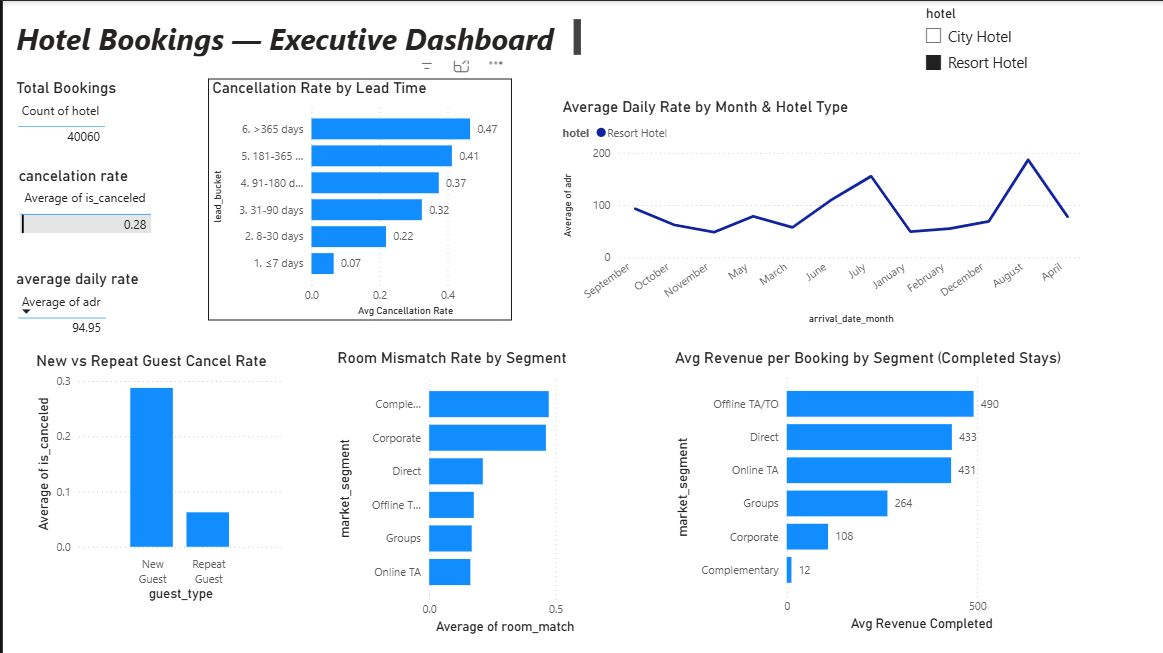

The page's visual inventory and layout, read from the dashboard file:
{"tool":"powerbi","page":{"name":"Page 1","canvas":[1280,720],"ordinal":0},"visuals":[{"type":"clusteredBarChart","title":"Cancellation Rate by Lead Time","fields":{"Category":["hotel_bookings.lead_bucket"],"Y":["Avg(hotel_bookings.is_canceled)"]},"box":[225,85.1,333.4,266.2],"z":0},{"type":"clusteredBarChart","title":"Avg Revenue per Booking by Segment (Completed Stays)","fields":{"Y":["hotel_bookings.Avg Revenue Completed"],"Category":["hotel_bookings.market_segment"]},"box":[732.8,381.5,439.1,315.6],"z":1000},{"type":"clusteredColumnChart","title":"New vs Repeat Guest Cancel Rate ","fields":{"Category":["hotel_bookings.guest_type"],"Y":["Avg(hotel_bookings.is_canceled)"]},"box":[31.6,384.2,279.9,279.9],"z":2000},{"type":"lineChart","title":"Average Daily Rate by Month & Hotel Type","fields":{"Category":["hotel_bookings.arrival_date_month"],"Y":["Avg(hotel_bookings.adr)"],"Series":["hotel_bookings.hotel"]},"box":[609.3,105.7,581.8,253.9],"z":3000},{"type":"clusteredBarChart","title":"Room Mismatch Rate by Segment","fields":{"Y":["Avg(hotel_bookings.room_match)"],"Category":["hotel_bookings.market_segment"]},"box":[362.3,381.5,285.4,318.4],"z":4000},{"type":"tableEx","title":"cancelation rate","fields":{"Values":["Avg(hotel_bookings.is_canceled)"]},"box":[12.3,181.1,190.7,89.2],"z":5000},{"type":"tableEx","title":"average daily rate","fields":{"Values":["Avg(hotel_bookings.adr)"]},"box":[9.6,295,161.9,89.2],"z":6000},{"type":"tableEx","title":"Total Bookings","fields":{"Values":["hotel_bookings.hotel"]},"box":[9.6,85.1,142.7,89.2],"z":6001},{"type":"textbox","box":[9.6,15.1,629.8,50.8],"z":6002},{"type":"slicer","fields":{"Values":["hotel_bookings.hotel"]},"box":[1000.3,0,279.9,94.7],"z":6003}]}

Visuals, with their boxes in screenshot pixels (x1, y1, x2, y2), scaled from the page's 1280x720 canvas onto the 1163x653 screenshot:
"Cancellation Rate by Lead Time" clusteredBarChart: (204, 77, 507, 319)
"Avg Revenue per Booking by Segment (Completed Stays)" clusteredBarChart: (666, 346, 1065, 632)
"New vs Repeat Guest Cancel Rate " clusteredColumnChart: (29, 348, 283, 602)
"Average Daily Rate by Month & Hotel Type" lineChart: (554, 96, 1082, 326)
"Room Mismatch Rate by Segment" clusteredBarChart: (329, 346, 588, 635)
"cancelation rate" tableEx: (11, 164, 184, 245)
"average daily rate" tableEx: (9, 268, 156, 348)
"Total Bookings" tableEx: (9, 77, 138, 158)
textbox: (9, 14, 581, 60)
slicer - hotel_bookings.hotel: (909, 0, 1162, 86)
